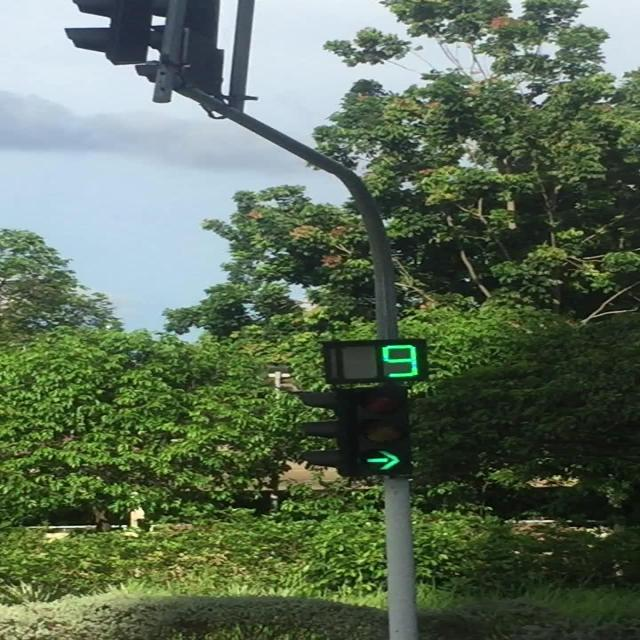traffic light: (64, 0, 225, 103), (295, 384, 411, 478), (64, 0, 155, 66), (353, 383, 411, 478), (323, 338, 428, 385), (296, 391, 353, 476)
